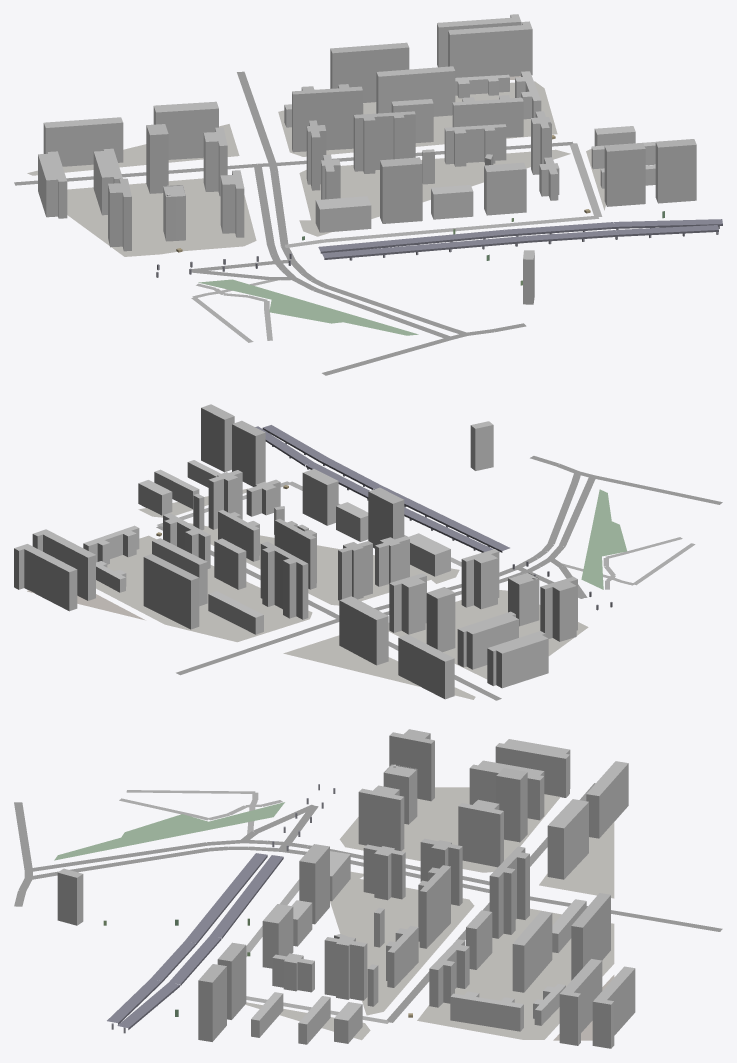
3 views of the same model, one above another, from view 1: azimuth 30°, elevation 25°; view 2: azimuth 150°, elevation 25°; view 3: azimuth 270°, elevation 25° (orthographic). The views are drawn at different scales.
Size of the model in its own units: 534 by 58.35 by 592.
